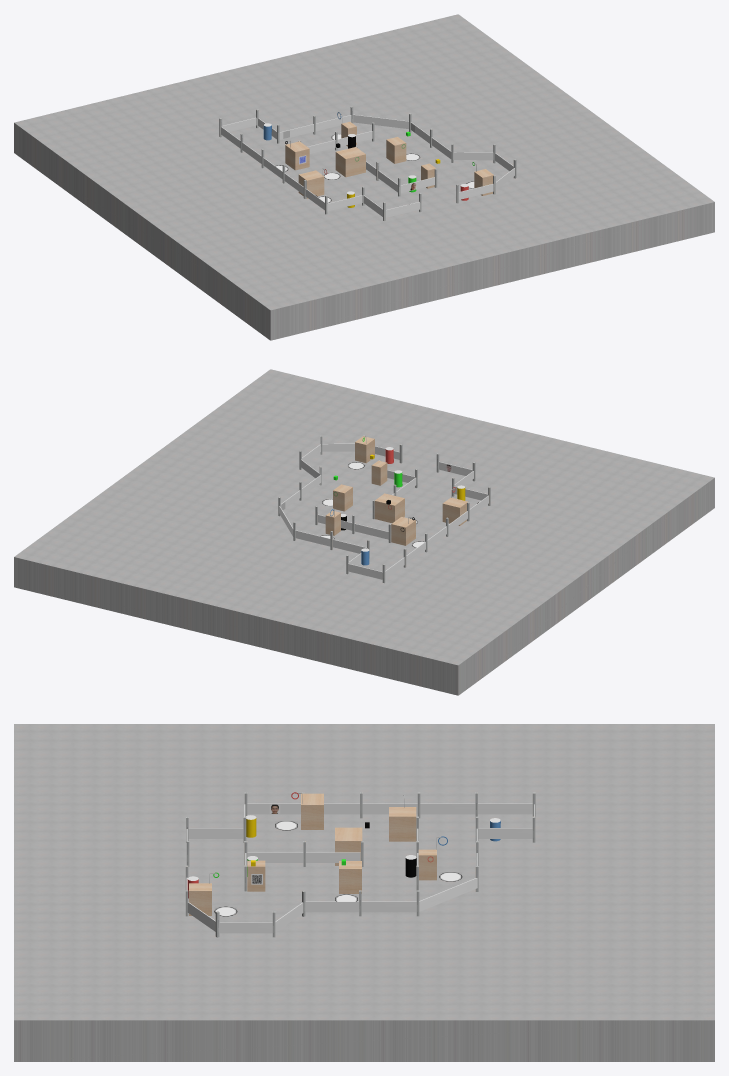
Rendered from map.dae.
The picture shows the model from 3 angles, top to bottom: view 1: azimuth 30°, elevation 25°; view 2: azimuth 150°, elevation 25°; view 3: azimuth 270°, elevation 25°; orthographic projection. The views are drawn at different scales.
Visible parts, largest first — view 1: main; view 2: main; view 3: main.
Boxes of the visible parts, x1,y1,x2,y2 form: main: (14, 14, 714, 340); main: (14, 369, 714, 695); main: (14, 724, 714, 1061).
Bounding box in the file's own units: 15.34 × 15.34 × 1.92.
